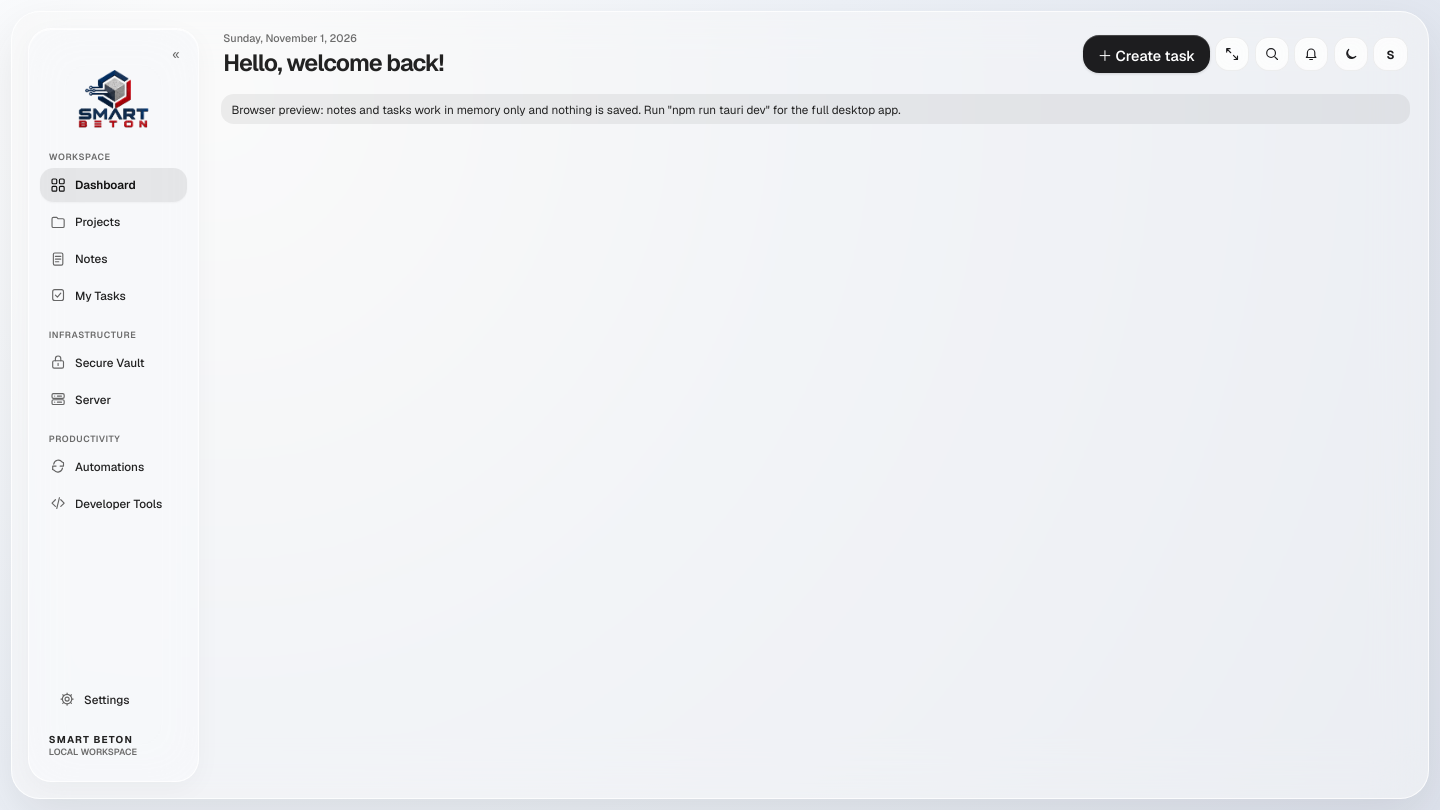
Test: cancelling an automation stops before the next action
Click the button "Automations" at {"x": 114, "y": 466}, box x1=40 y1=449 x2=187 y2=483
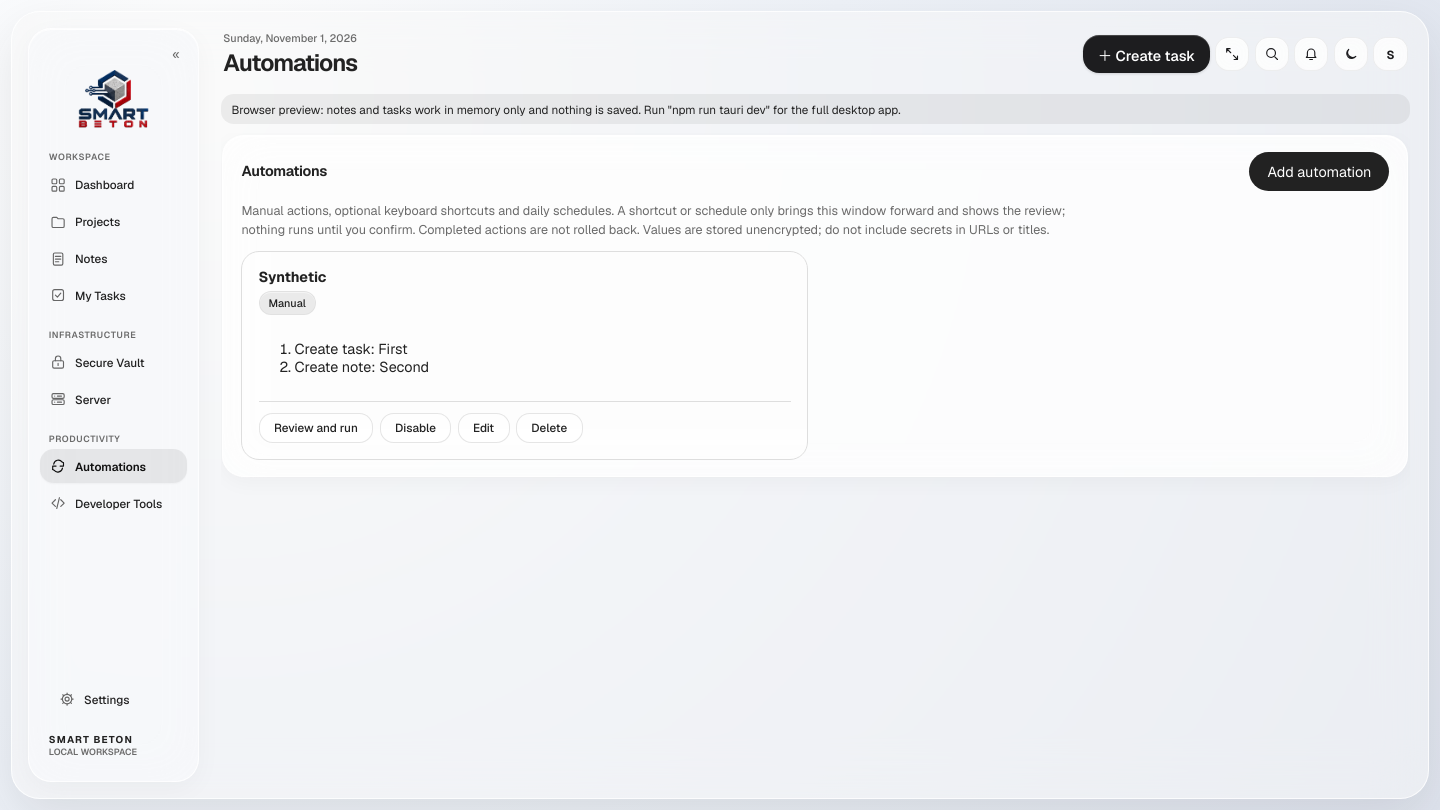
Click the button "Review and run" at {"x": 316, "y": 428}, box x1=259 y1=413 x2=373 y2=443
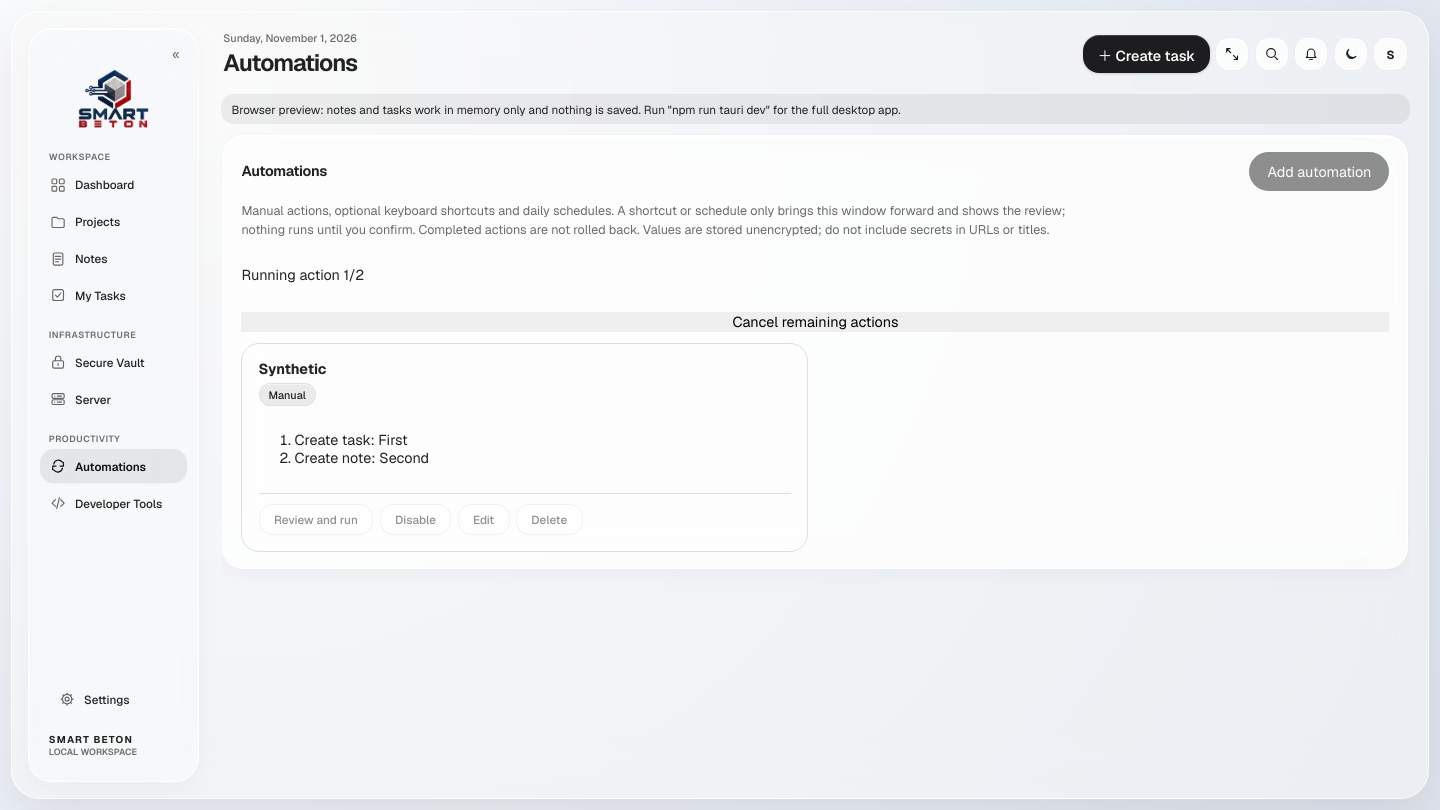
Click the button "Cancel remaining actions" at {"x": 815, "y": 322}, box x1=241 y1=312 x2=1389 y2=332
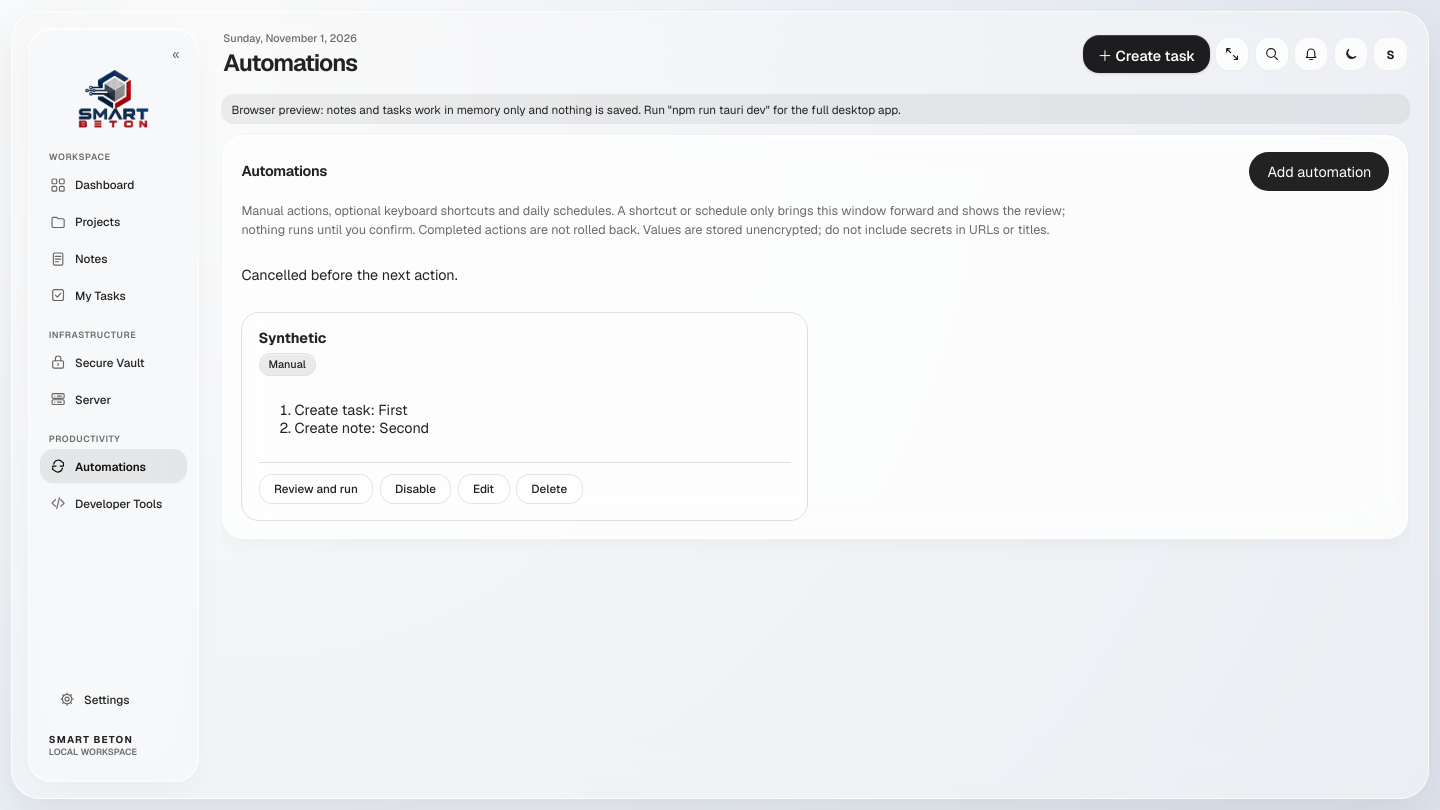
Expected: the text "Cancelled before the next action." is shown, x1=241 y1=266 x2=458 y2=284
